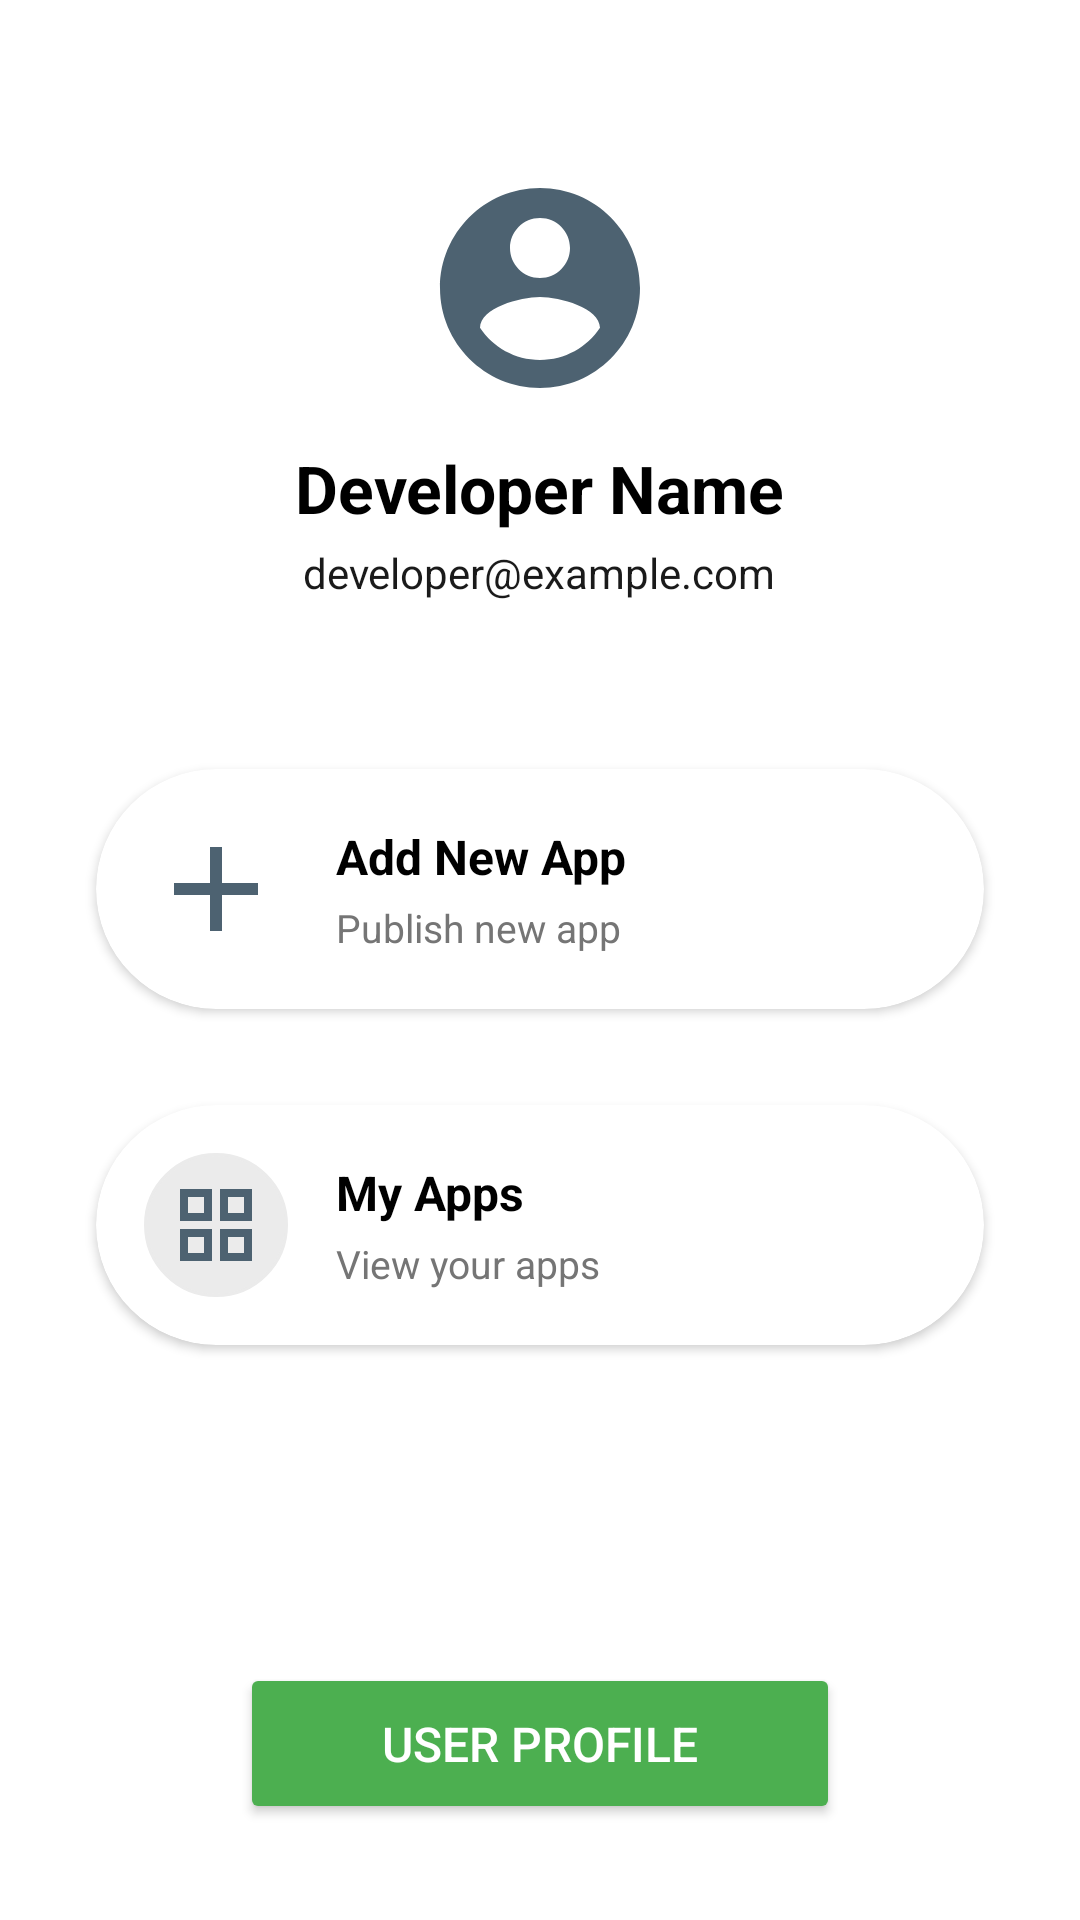

Point at icon controls on the screen. Image size 1080x1920, points as (x=x, y=y).
account circle: (x=540, y=288)
